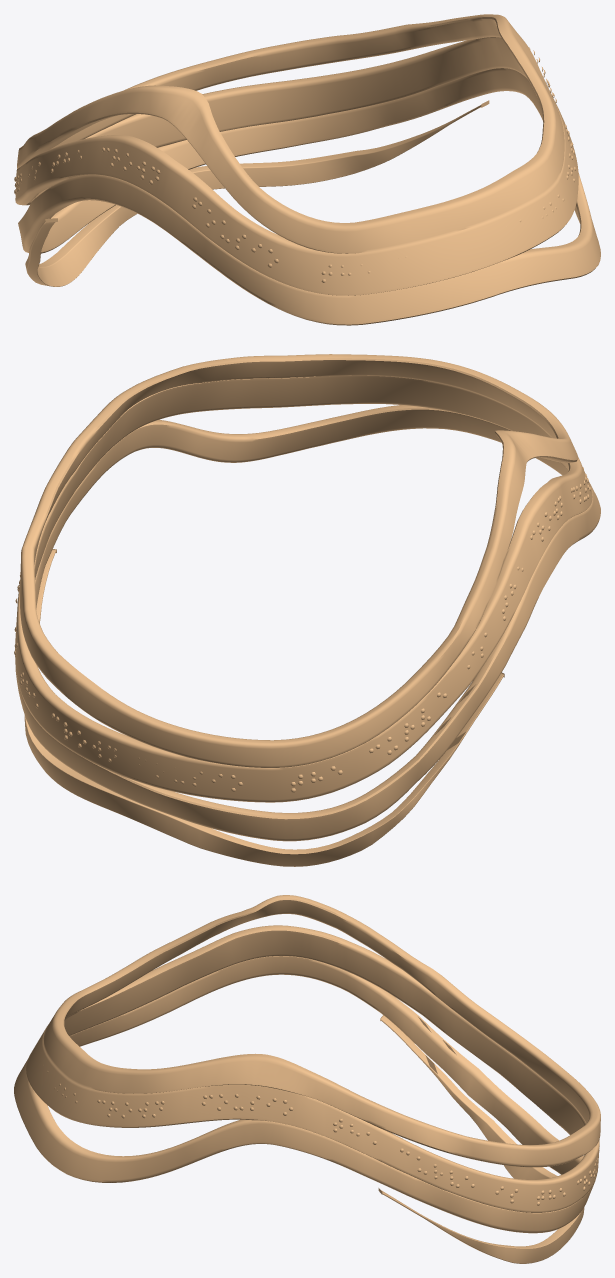
The model's file is circlet-a.glb.
3 views of the same model, one above another, from view 1: azimuth 30°, elevation 25°; view 2: azimuth 150°, elevation 25°; view 3: azimuth 270°, elevation 25° (orthographic). The views are drawn at different scales.
Visible parts, largest first — view 1: crown-body, braille-dots; view 2: crown-body, braille-dots; view 3: crown-body, braille-dots.
Boxes of the visible parts, x1,y1,x2,y2 form: crown-body: (15,14,600,325); braille-dots: (14,47,575,282); crown-body: (15,354,600,866); braille-dots: (14,467,590,792); crown-body: (14,895,600,1263); braille-dots: (43,1064,599,1205).
Bounding box in the file's own units: 0.1749 × 0.1168 × 0.2299.
